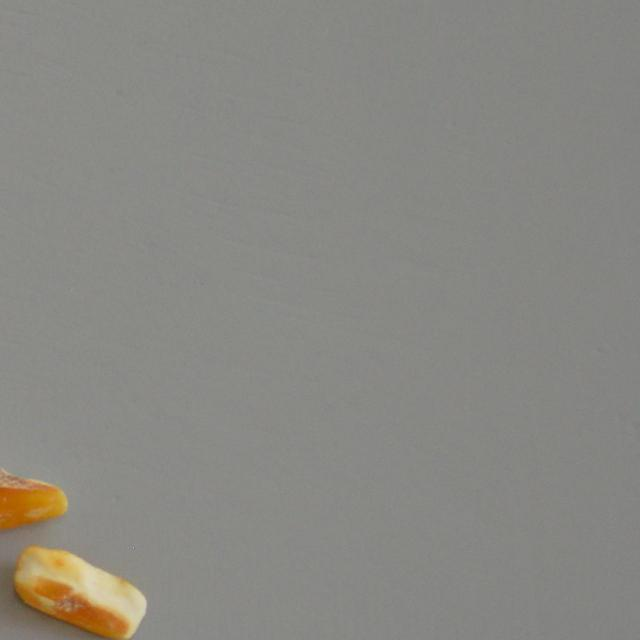dañado: (6, 541, 152, 640), (0, 428, 72, 538)
